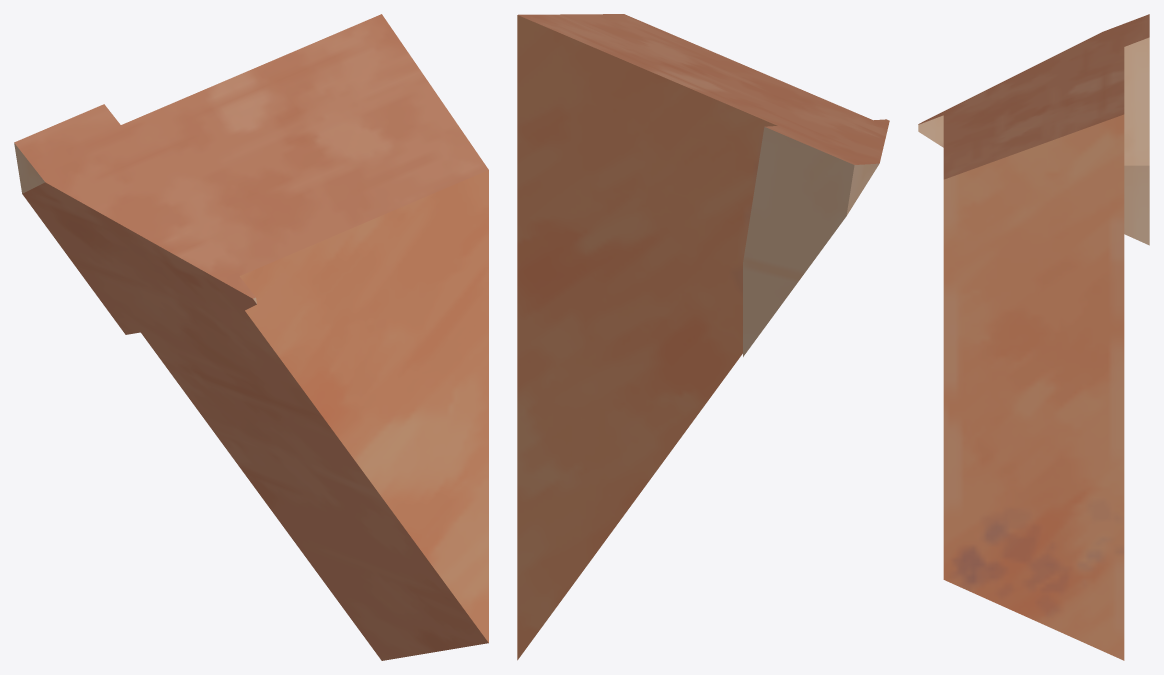
File: wall2_door_s01.fbx
3 renders of one model, left to right at view 1: azimuth 30°, elevation 25°; view 2: azimuth 150°, elevation 25°; view 3: azimuth 270°, elevation 25°, orthographic. The views are drawn at different scales.
Parts seen in each view (by area): view 1: wall2_door_s01; view 2: wall2_door_s01; view 3: wall2_door_s01.
Part boxes in pixels (x1=…): wall2_door_s01: x1=14, y1=14, x2=488, y2=660; wall2_door_s01: x1=517, y1=14, x2=889, y2=660; wall2_door_s01: x1=918, y1=14, x2=1149, y2=660.
Size of the model in its own units: 1.9 by 3.33 by 1.28.
